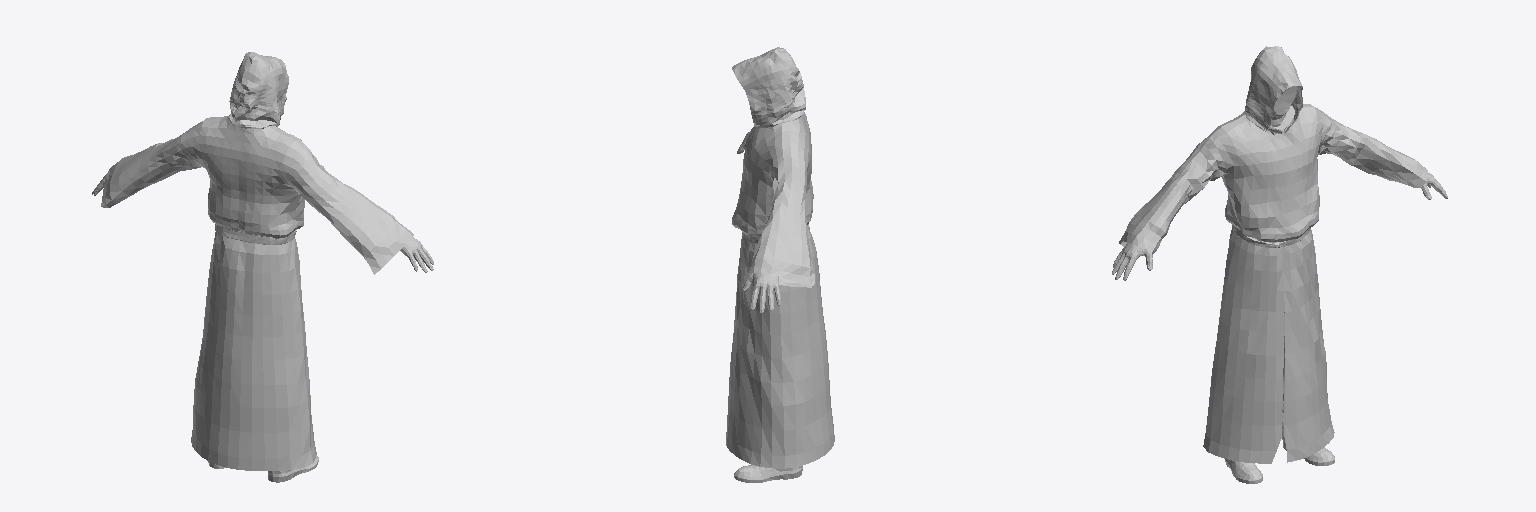
Rendered from Bathroom_ghostface.obj.
3 views of the same model, side by side, from view 1: azimuth 30°, elevation 25°; view 2: azimuth 150°, elevation 25°; view 3: azimuth 270°, elevation 25° (orthographic).
Visible parts, largest first — view 1: OK_Body007_REF.001; view 2: OK_Body007_REF.001; view 3: OK_Body007_REF.001.
Boxes of the visible parts, x1,y1,x2,y2 form: OK_Body007_REF.001: [92, 52, 433, 482]; OK_Body007_REF.001: [726, 47, 834, 482]; OK_Body007_REF.001: [1112, 46, 1447, 483].
Size of the model in its own units: 3.29 by 6.47 by 4.76.